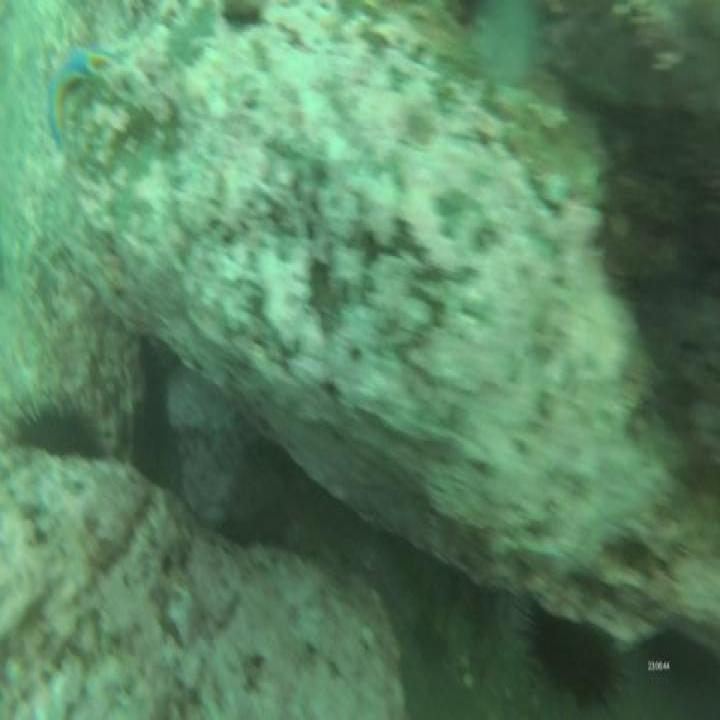echinus: (527, 596, 624, 708)
starfish: (44, 34, 108, 138)
